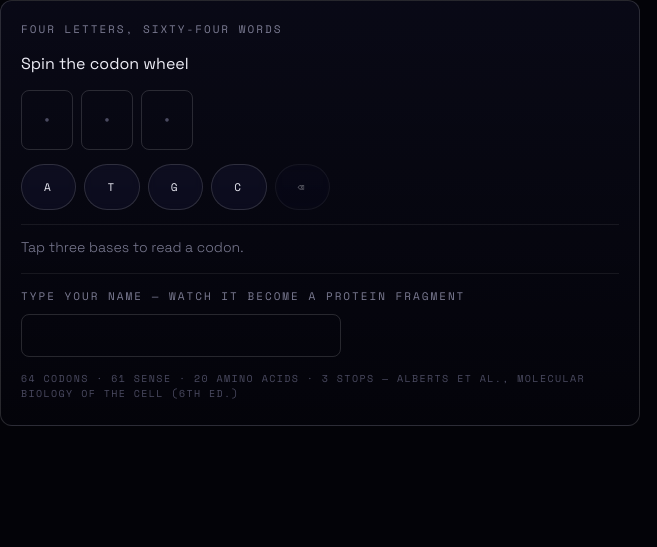
CodonWheel › shows the O/U note when those letters appear
Type "UO" into the field labelled "Type your name — watch it become a protein fragment" at (181, 336), box [21, 314, 341, 357]
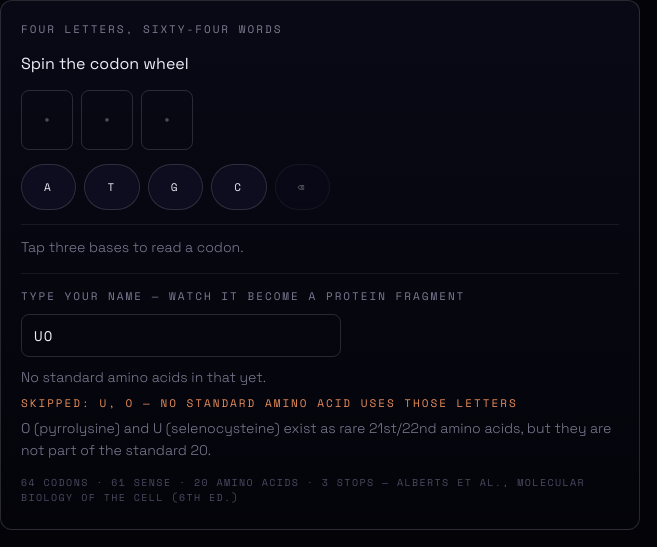
Expected: the text "selenocysteine" is shown, [21, 419, 611, 459]
